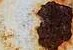Corrosion: (35, 1, 73, 50)
